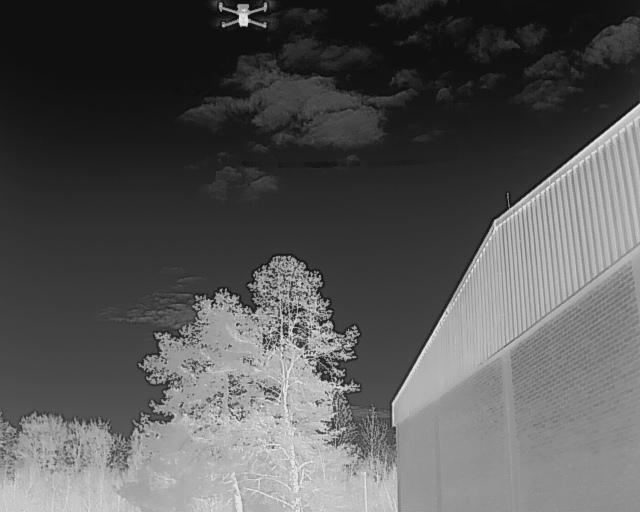drone: (208, 1, 274, 48)
